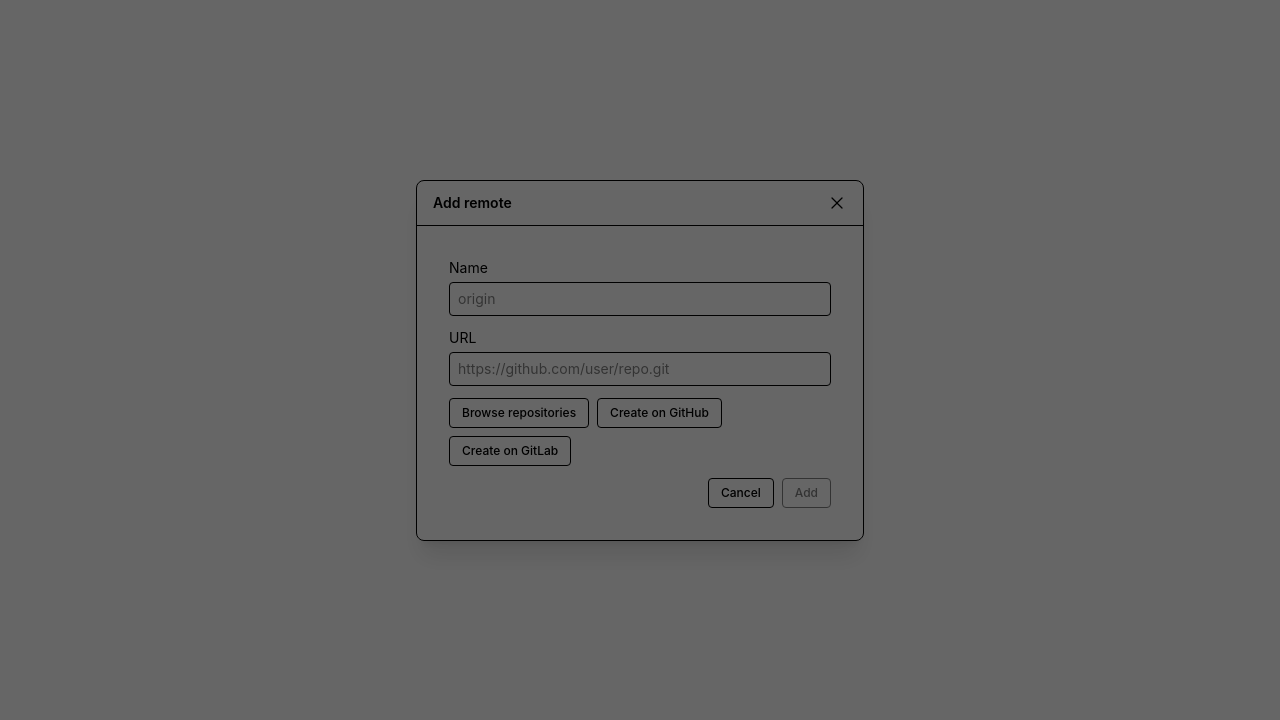
AddRemoteModal › shows provider tabs when multiple integrations are connected
What coordinates should you click on to do the following:
click the button "Browse repositories"
I would click on:
 (519, 412)
Its box is [449,398,589,428].
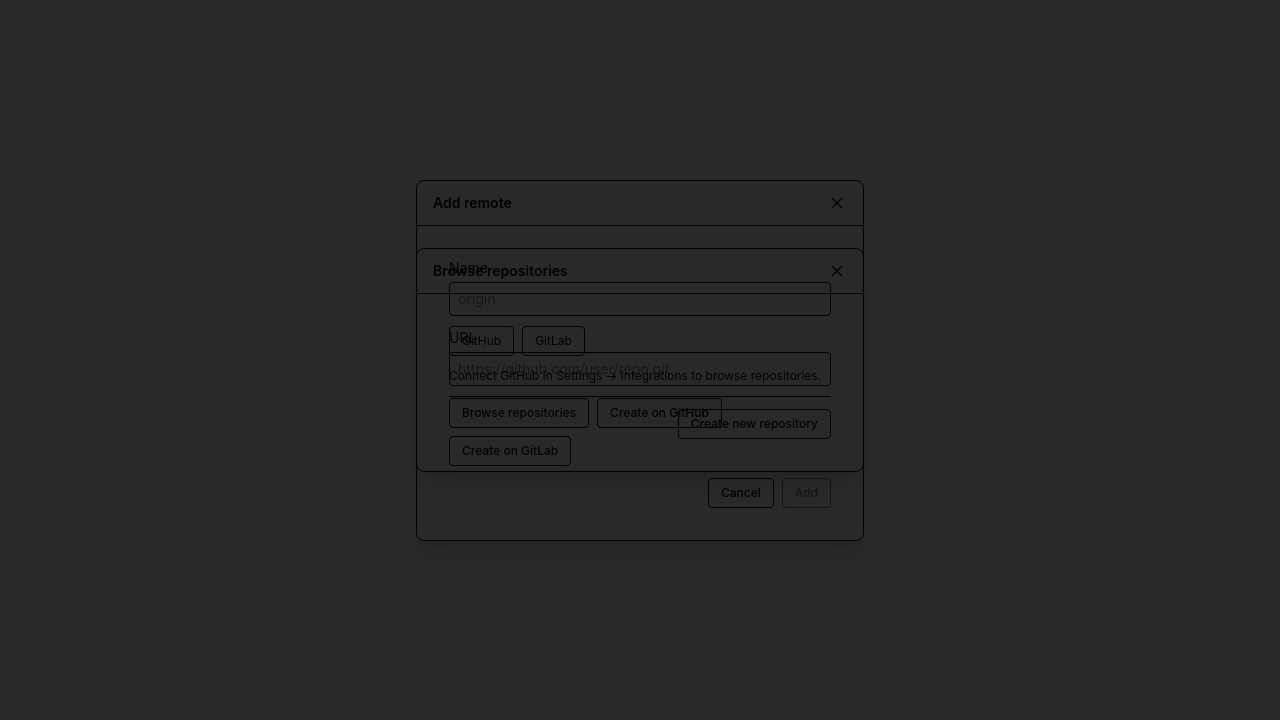
Expected: the button "GitHub" is shown, [449,326,514,356]
Expected: the button "GitLab" is shown, [522,326,585,356]
